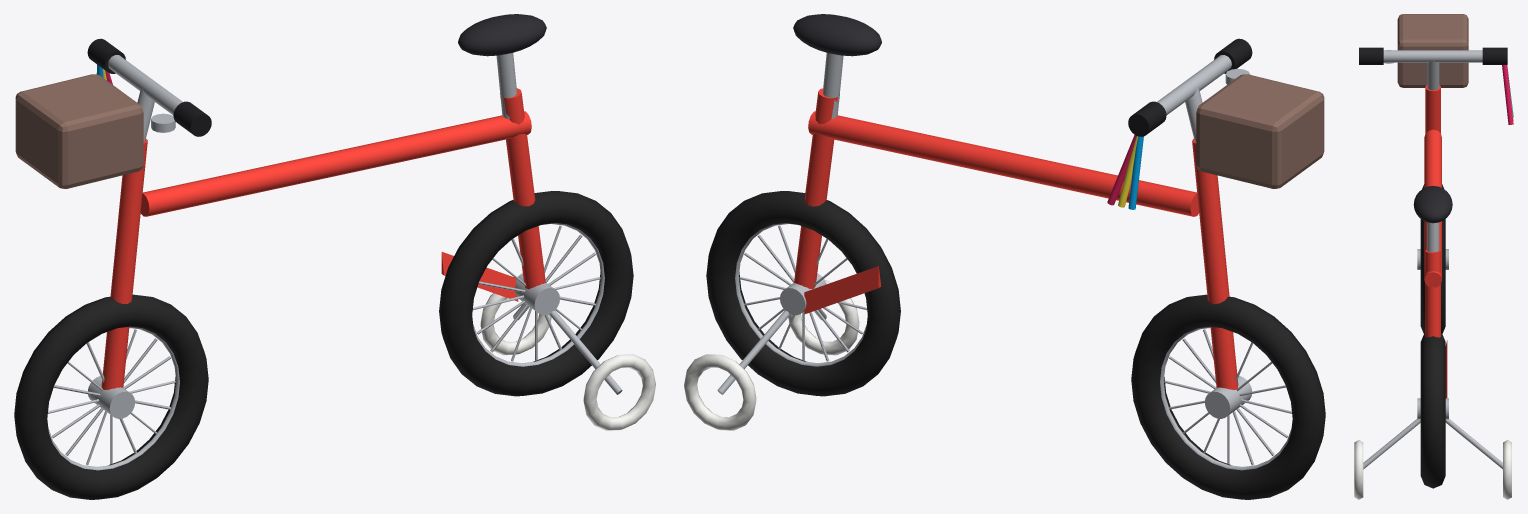
File: bike.fbx
3 renders of one model, left to right at view 1: azimuth 30°, elevation 25°; view 2: azimuth 150°, elevation 25°; view 3: azimuth 270°, elevation 25°, orthographic. The views are drawn at different scales.
Visible parts, largest first — view 1: Kid's Bike; view 2: Kid's Bike; view 3: Kid's Bike.
Part boxes in pixels (x1,y1,x2,y2): Kid's Bike: [14, 14, 655, 499]; Kid's Bike: [684, 14, 1325, 499]; Kid's Bike: [1354, 14, 1513, 499].
Bounding box in the file's own units: 2.9 × 1.88 × 0.9009.
